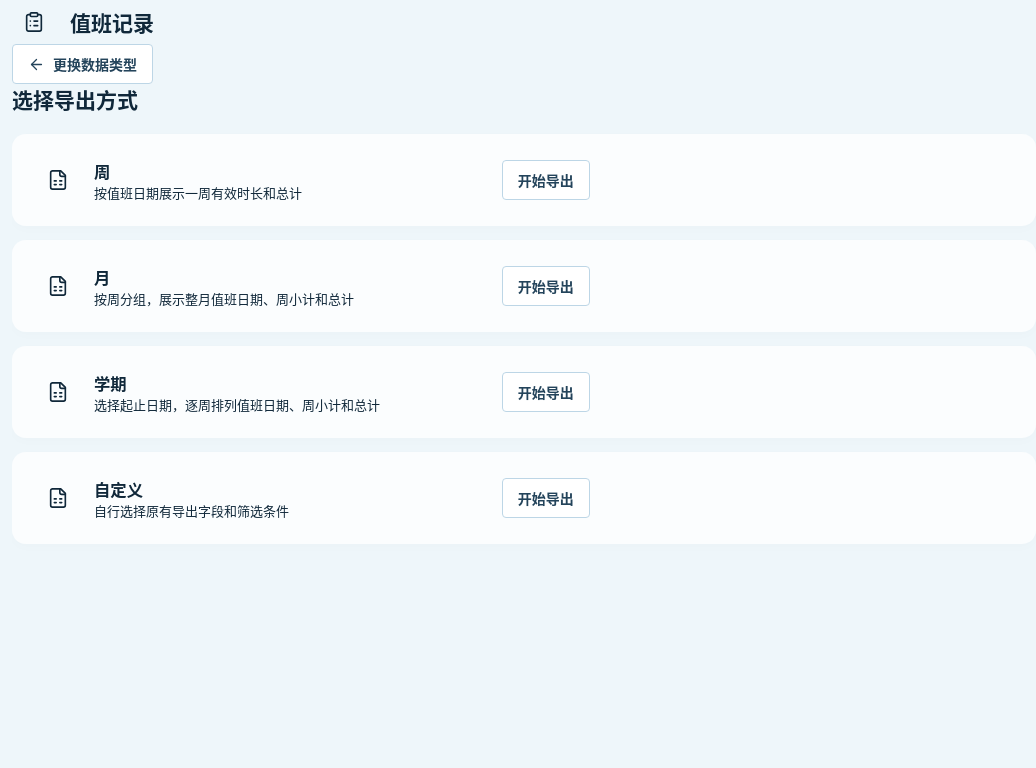
Test case: attendance template workspace › requires both semester dates and blocks inverted ranges
Click the button next to "选择起止日期，逐周排列值班日期、周小计和总计" at (546, 392), box [502,372,590,412]
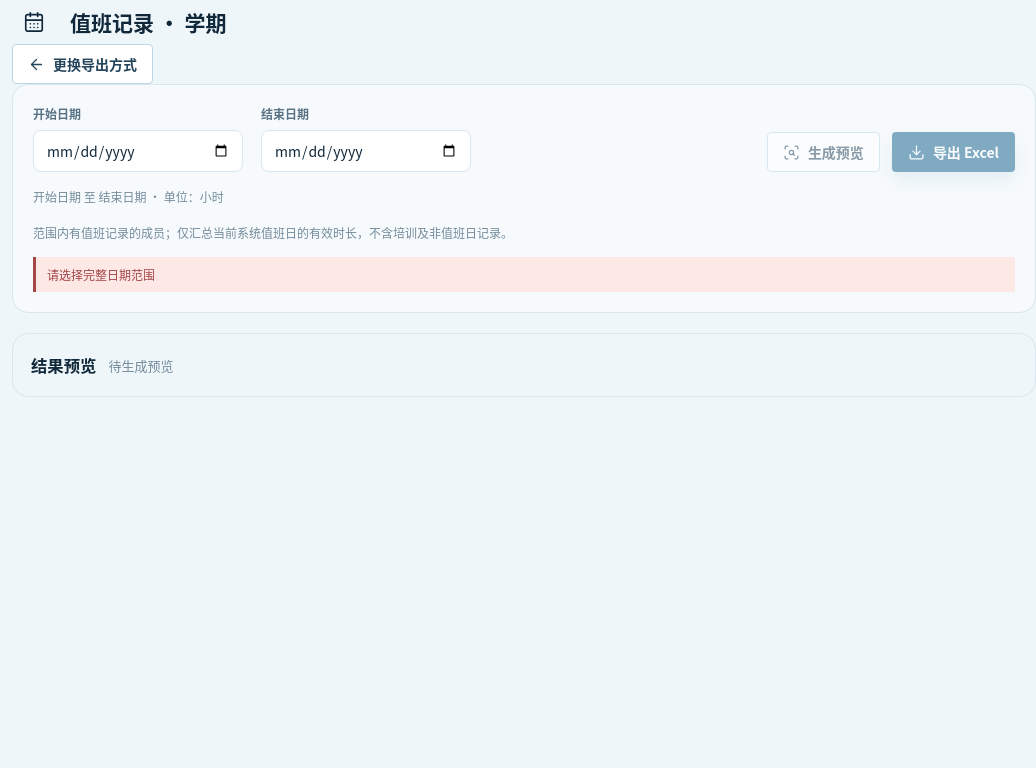
Now the button "生成预览" is disabled, box [767,132,880,172]
Type "2026-11-01" into the date field labelled "开始日期" at (138, 151), box [33,130,243,172]
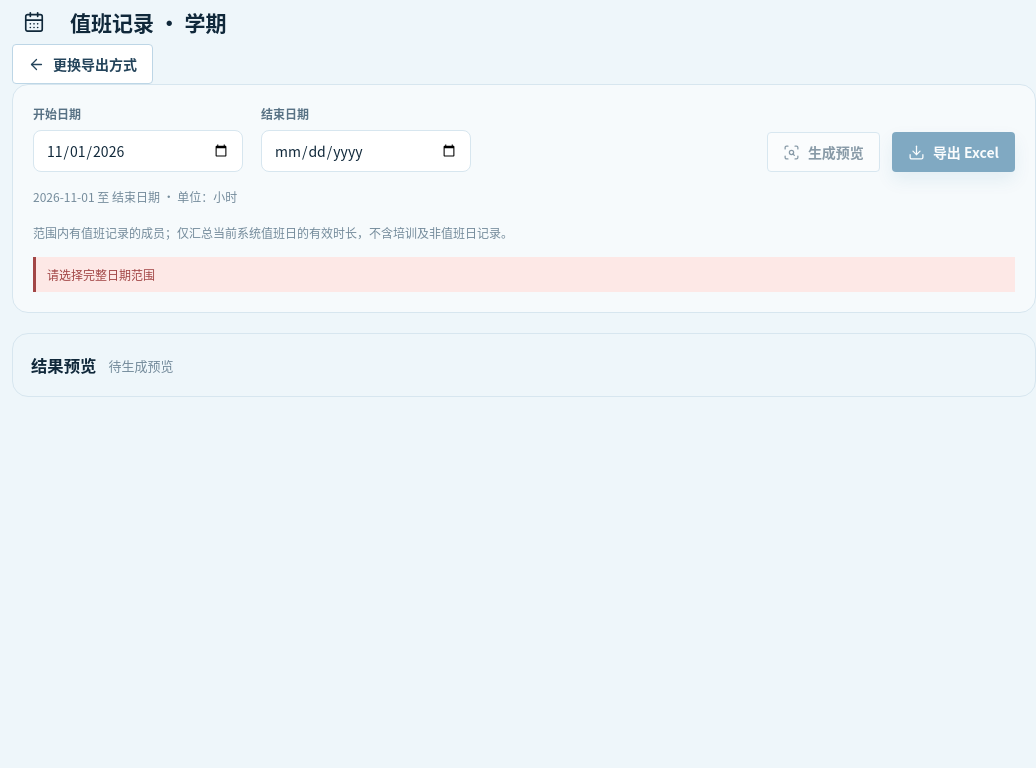
Type "2026-10-01" into the date field labelled "结束日期" at (366, 151), box [261,130,471,172]
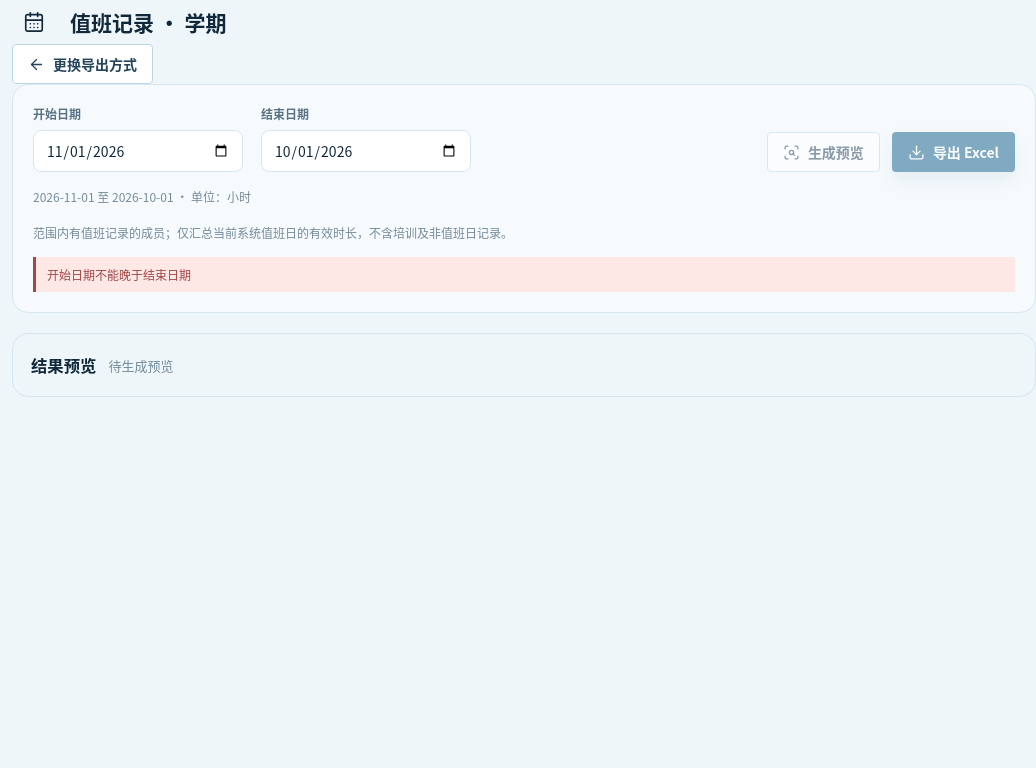
Now the message "开始日期不能晚于结束日期" is shown, box [33,257,1015,292]
